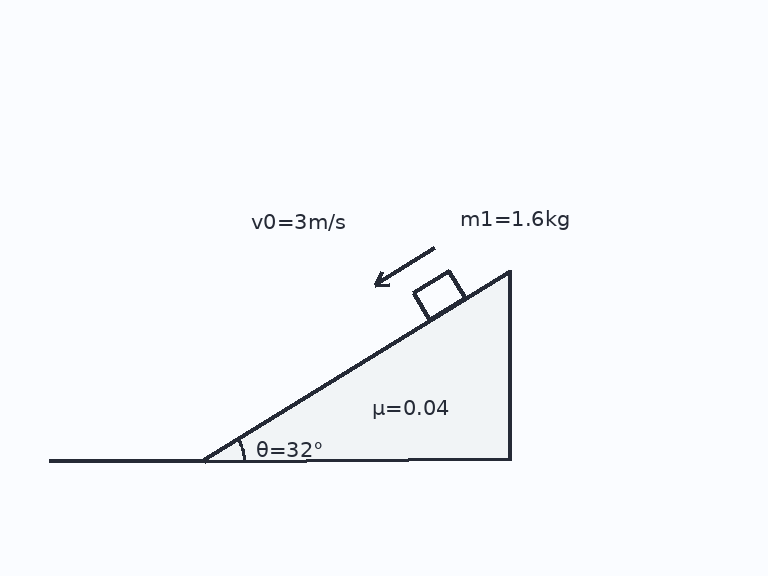block: (411, 269, 467, 321)
ramp: (202, 268, 510, 462)
